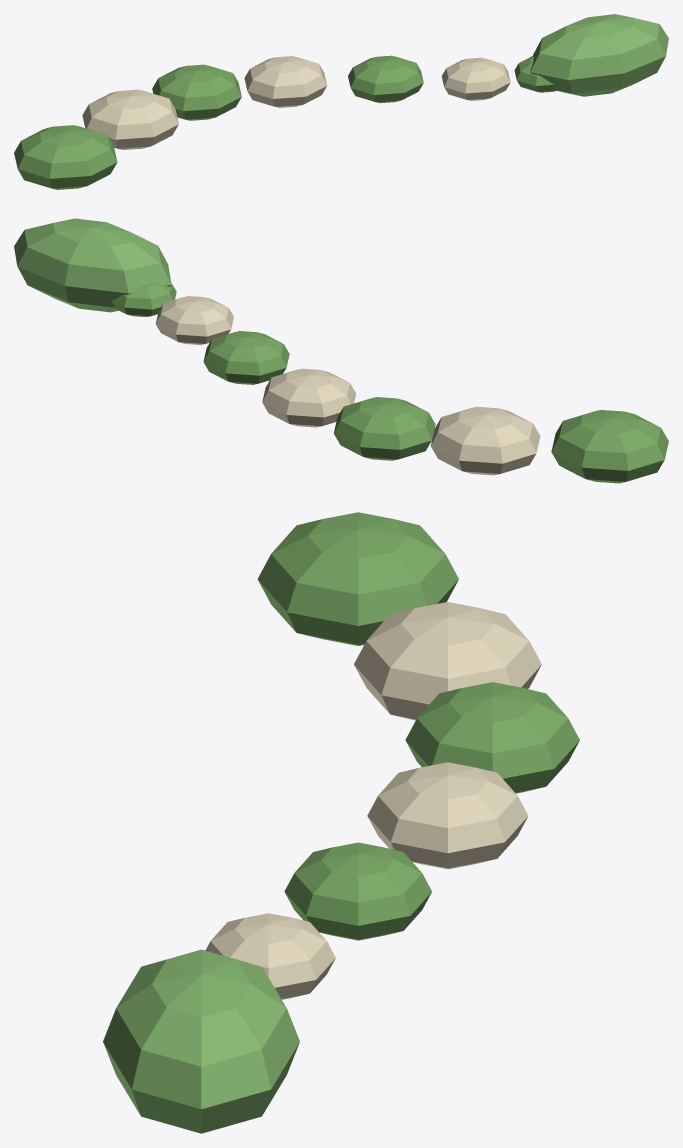
Rendered from snake.dae.
3 views of the same model, one above another, from view 1: azimuth 30°, elevation 25°; view 2: azimuth 150°, elevation 25°; view 3: azimuth 270°, elevation 25° (orthographic). The views are drawn at different scales.
Parts seen in each view (by area): view 1: Sphere.007, Sphere, Sphere.001, Sphere.002, Sphere.003, Sphere.004, Sphere.005, Sphere.006; view 2: Sphere.007, Sphere, Sphere.001, Sphere.002, Sphere.003, Sphere.004, Sphere.005, Sphere.006; view 3: Sphere.007, Sphere, Sphere.001, Sphere.002, Sphere.003, Sphere.004, Sphere.005.
Boxes of the visible parts, box(x1,y1,x2,y2) form: Sphere.007: box(530, 14, 668, 96); Sphere: box(14, 125, 117, 189); Sphere.001: box(82, 89, 178, 149); Sphere.002: box(152, 64, 241, 120); Sphere.003: box(244, 56, 327, 107); Sphere.004: box(348, 55, 423, 103); Sphere.005: box(441, 57, 510, 100); Sphere.006: box(514, 56, 556, 92); Sphere.007: box(14, 218, 171, 312); Sphere: box(551, 410, 668, 483); Sphere.001: box(431, 406, 540, 475); Sphere.002: box(334, 397, 435, 460); Sphere.003: box(262, 368, 356, 427); Sphere.004: box(203, 331, 289, 384); Sphere.005: box(156, 296, 233, 344); Sphere.006: box(111, 283, 176, 316); Sphere.007: box(103, 949, 299, 1133); Sphere: box(257, 512, 458, 645); Sphere.001: box(354, 602, 541, 720); Sphere.002: box(405, 682, 579, 793); Sphere.003: box(367, 762, 528, 869); Sphere.004: box(284, 842, 431, 940); Sphere.005: box(205, 913, 335, 999).
Bounding box in the file's own units: 126 × 42.6 × 13.55.
